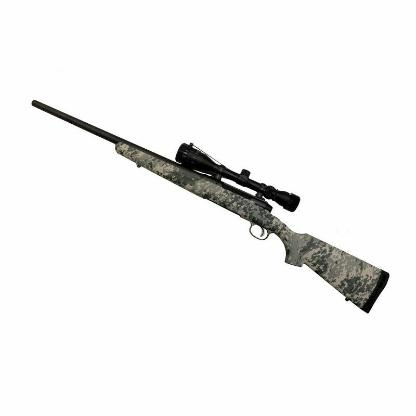gun: (21, 89, 391, 318)
